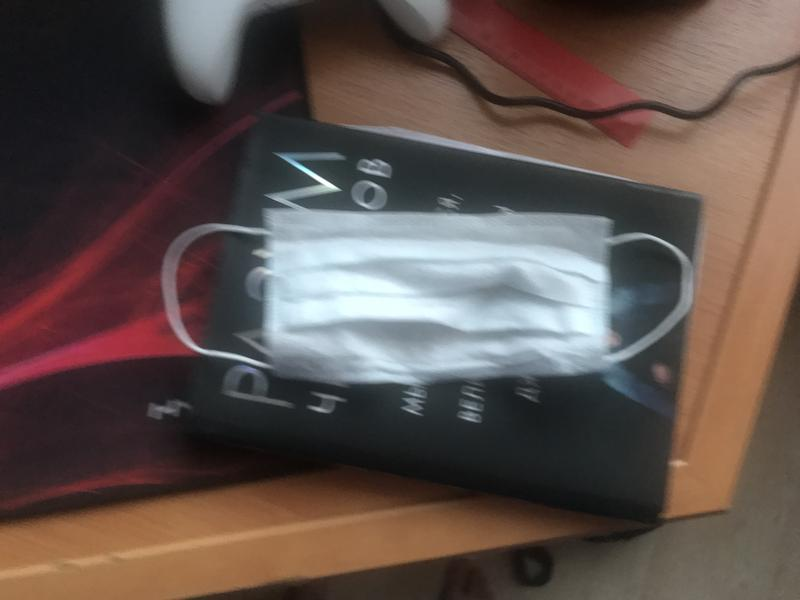medical_mask: (160, 211, 691, 382)
